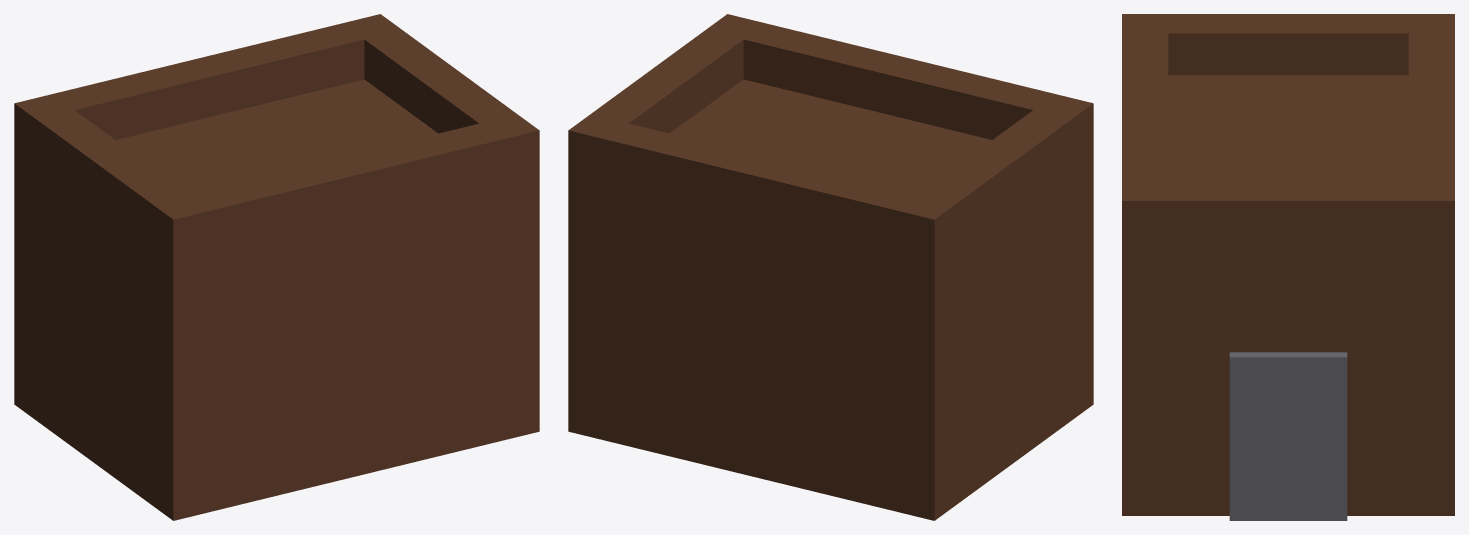
Rendered from 690 Barracks.fbx.
3 renders of one model, left to right at view 1: azimuth 30°, elevation 25°; view 2: azimuth 150°, elevation 25°; view 3: azimuth 270°, elevation 25°, orthographic. The views are drawn at different scales.
Visible parts, largest first — view 1: barracks; view 2: barracks; view 3: barracks.
Boxes of the visible parts, x1,y1,x2,y2 form: barracks: [14, 14, 539, 520]; barracks: [568, 14, 1093, 520]; barracks: [1122, 14, 1454, 520].
Size of the model in its own units: 492 by 377 by 361.
